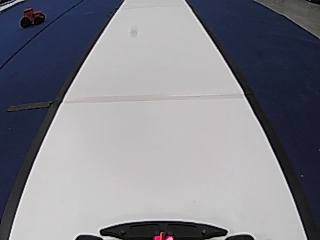tractor: (18, 6, 45, 27)
